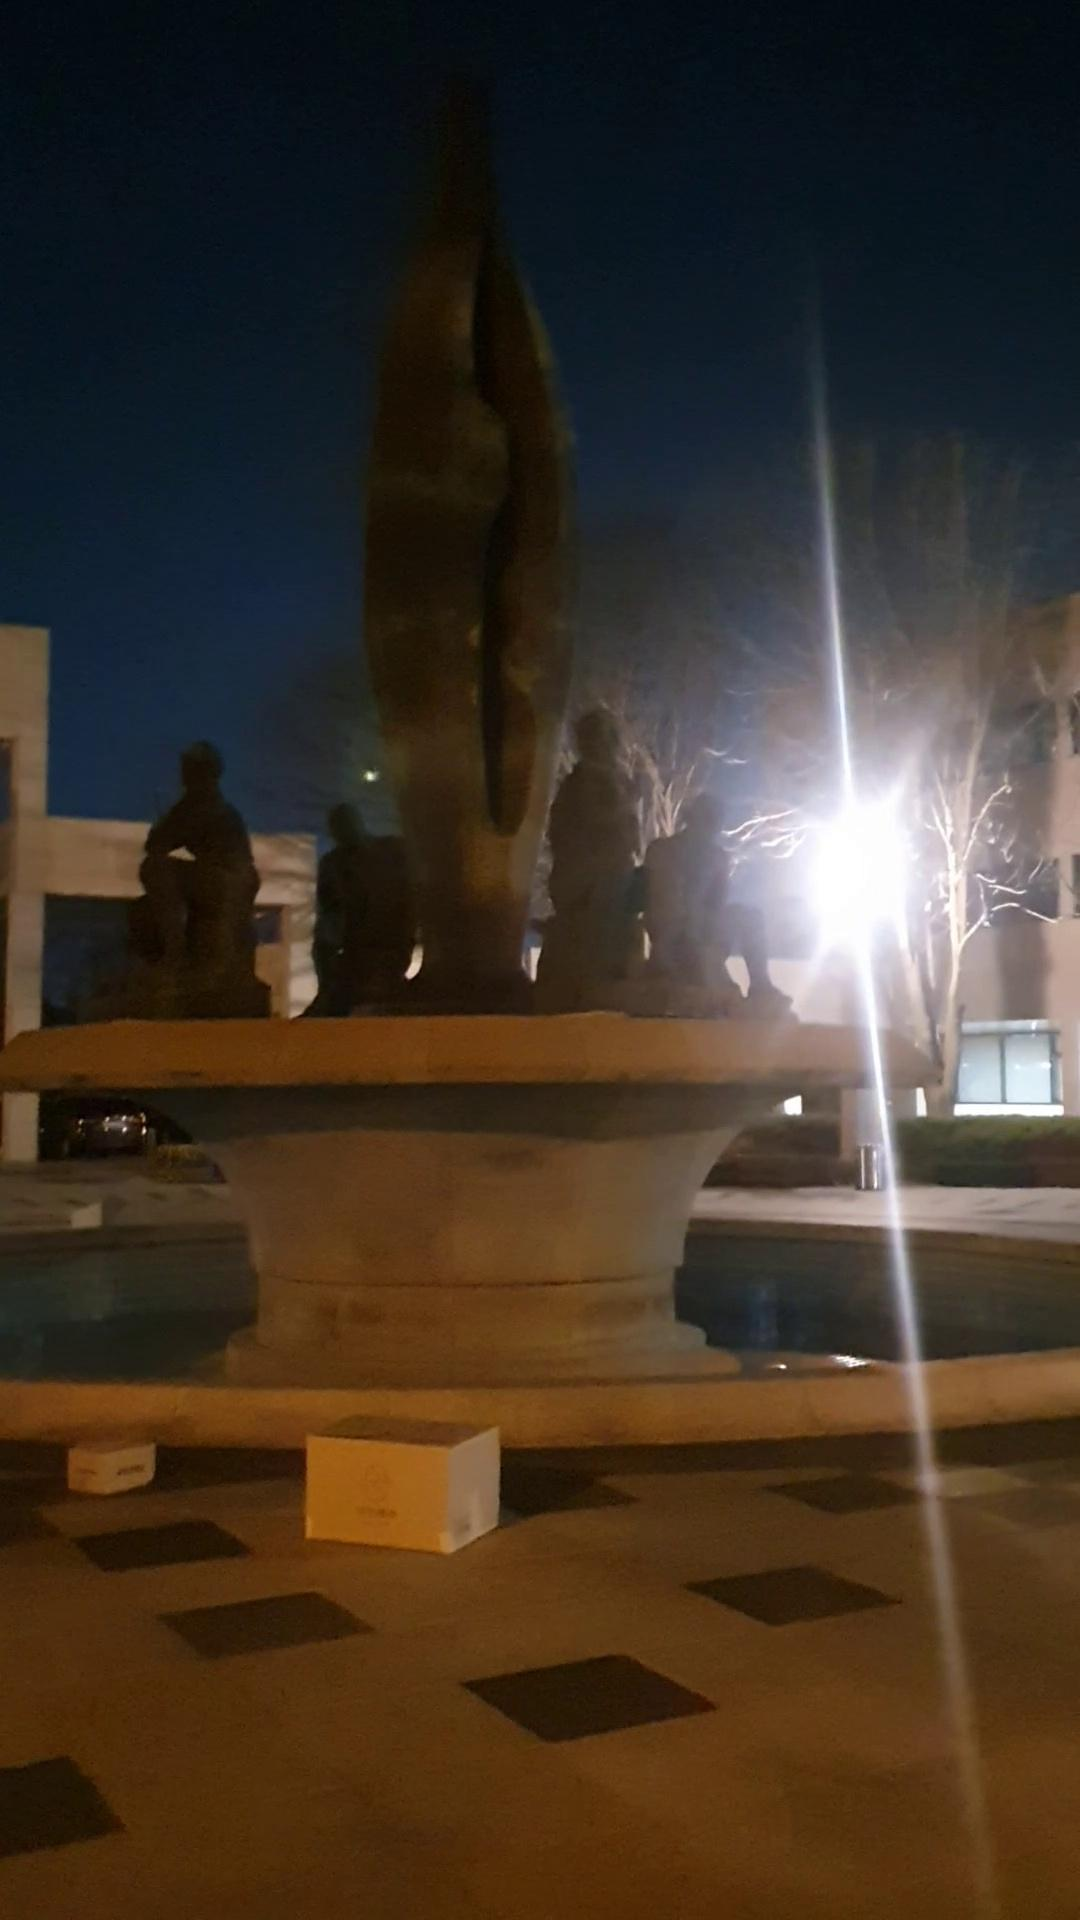Box: (291, 1408, 518, 1565), (53, 1420, 182, 1510)
